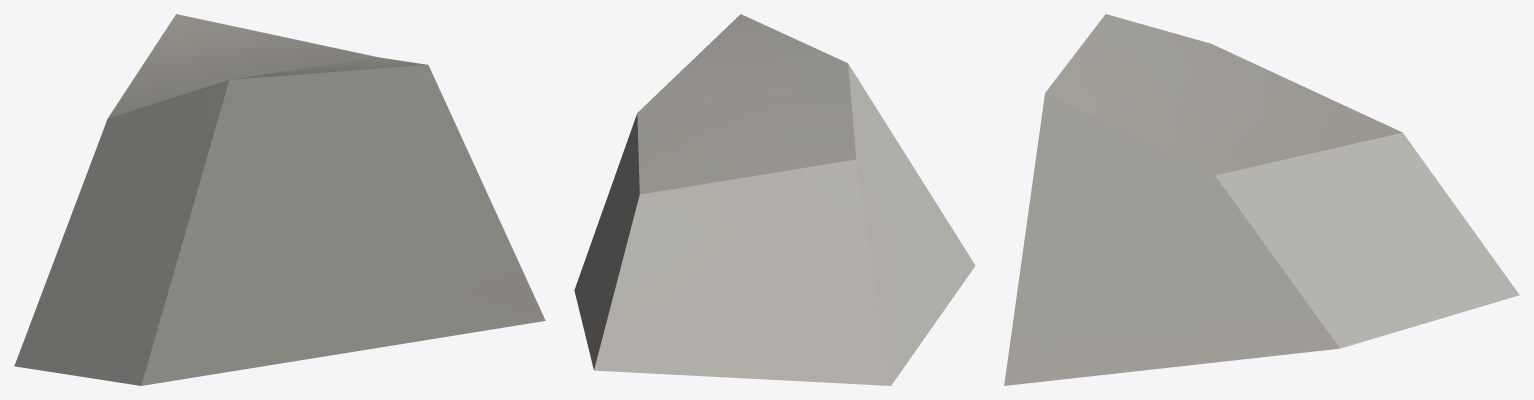
Rendered from rock3.FBX.
The picture shows the model from 3 angles, left to right: view 1: azimuth 30°, elevation 25°; view 2: azimuth 150°, elevation 25°; view 3: azimuth 270°, elevation 25°; orthographic projection. The views are drawn at different scales.
Visible parts, largest first — view 1: Object018; view 2: Object018; view 3: Object018.
Part boxes in pixels (left/top/right/bottom): Object018: left=14, top=14, right=545, bottom=385; Object018: left=574, top=14, right=975, bottom=385; Object018: left=1004, top=14, right=1519, bottom=385.
Bounding box in the file's own units: 8.25 × 6.22 × 9.83.
1 material, 1 textured.
